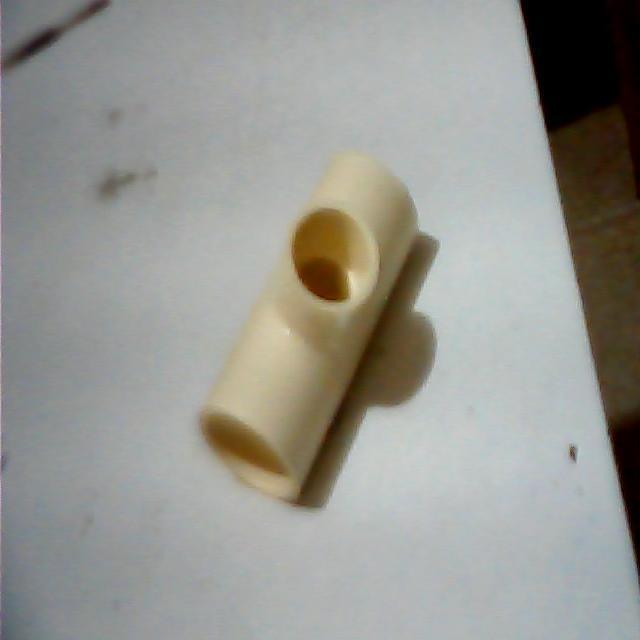T Joint: (199, 153, 417, 506)
